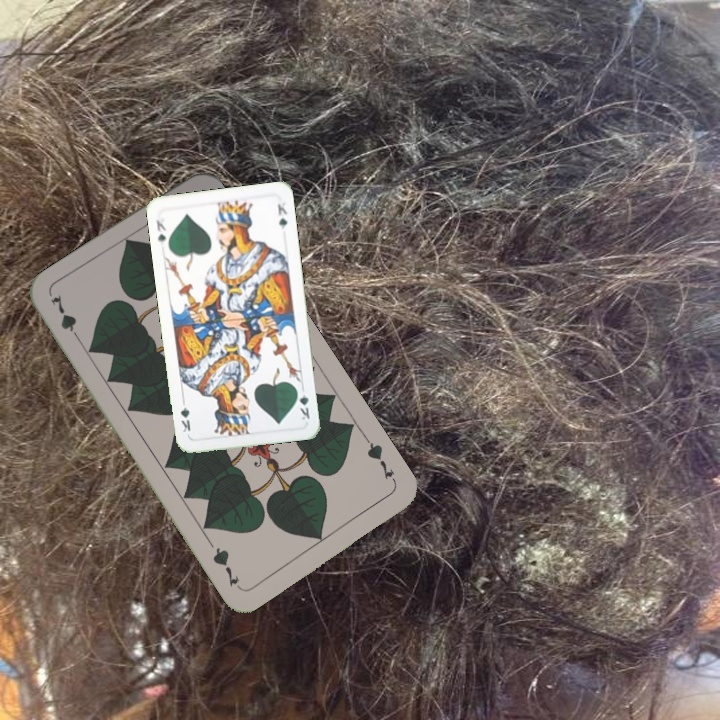G7: (46, 291, 85, 346), (361, 434, 400, 487)
GK: (293, 383, 312, 423), (152, 216, 169, 248)
